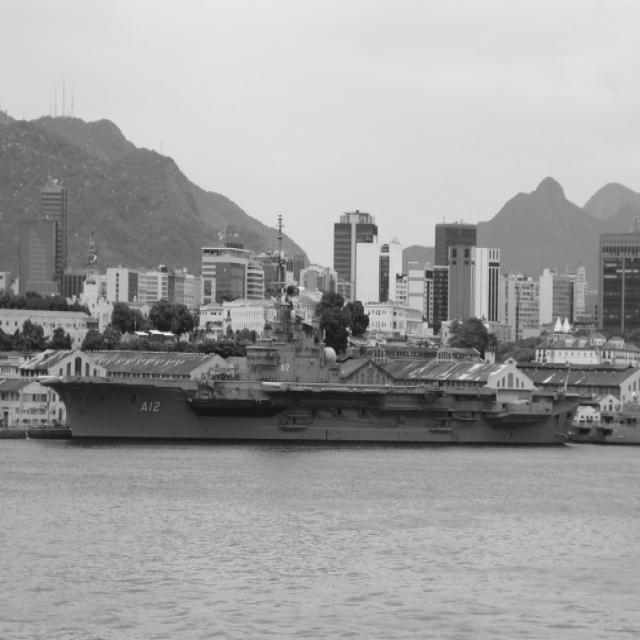Portanaves: (31, 217, 587, 454)
